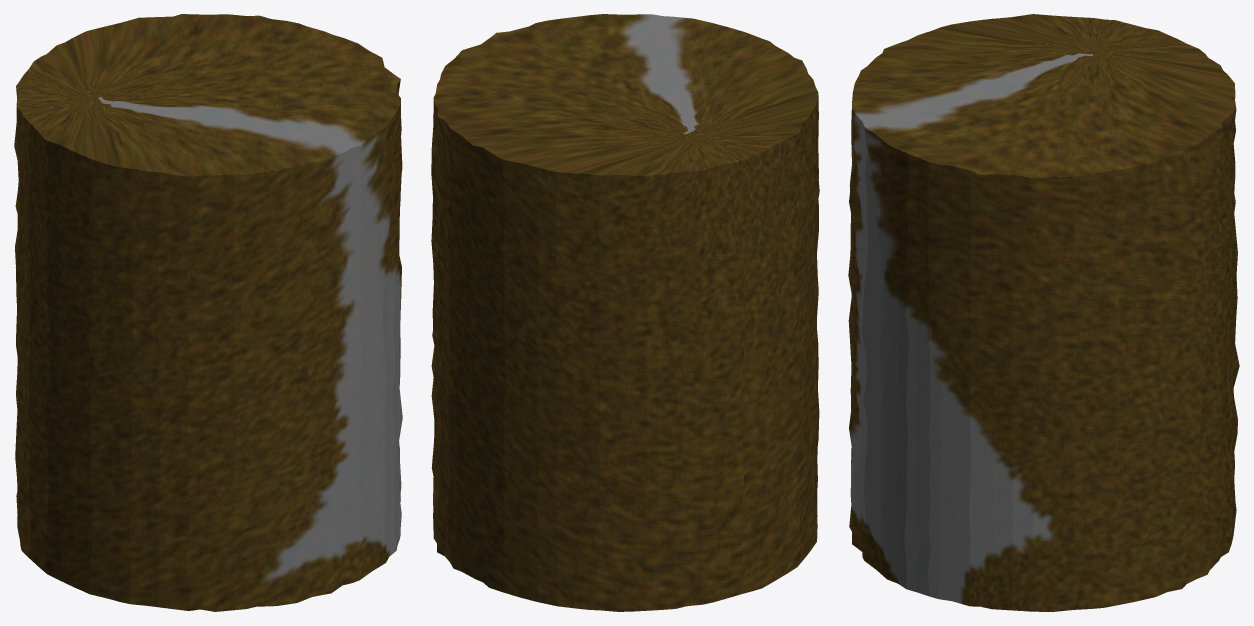
The model's file is barrel_0.dae.
The picture shows the model from 3 angles, left to right: view 1: azimuth 30°, elevation 25°; view 2: azimuth 150°, elevation 25°; view 3: azimuth 270°, elevation 25°; orthographic projection.
Visible parts, largest first — view 1: Cylinder; view 2: Cylinder; view 3: Cylinder.
Part boxes in pixels (left/top/right/bottom): Cylinder: left=14, top=14, right=402, bottom=611; Cylinder: left=431, top=14, right=819, bottom=611; Cylinder: left=848, top=14, right=1239, bottom=611.
Bounding box in the file's own units: 0.8174 × 0.8157 × 1.
